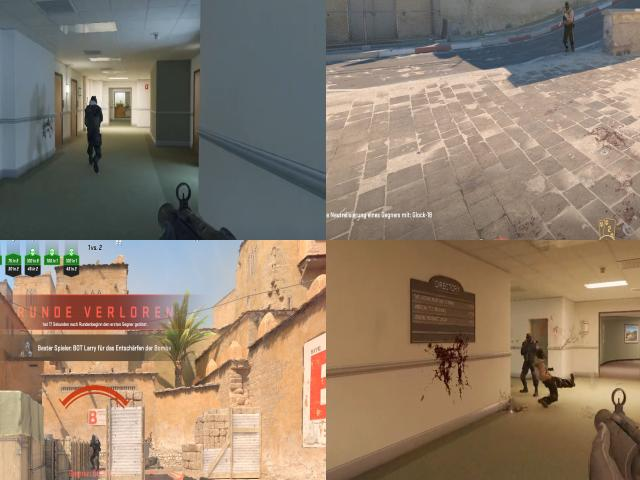CT: (85, 93, 103, 142), (522, 334, 538, 389), (90, 434, 100, 470)
CT-Head: (88, 95, 101, 111), (524, 332, 534, 344), (91, 435, 97, 440)
Dead: (532, 351, 577, 404)
T: (563, 1, 574, 53)
T-Head: (564, 0, 571, 12)
